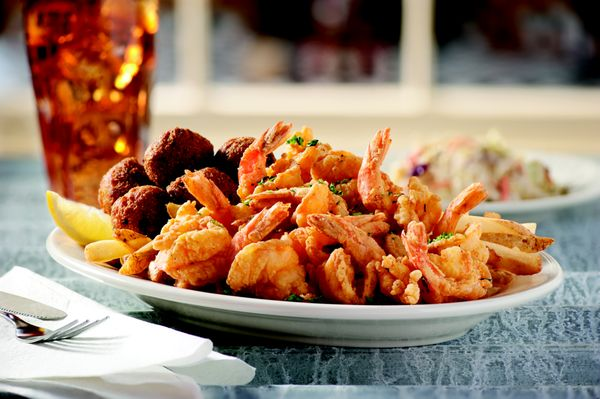burger: (5, 314, 111, 345)
pizza: (24, 2, 160, 211)
sushi: (43, 115, 581, 349)
